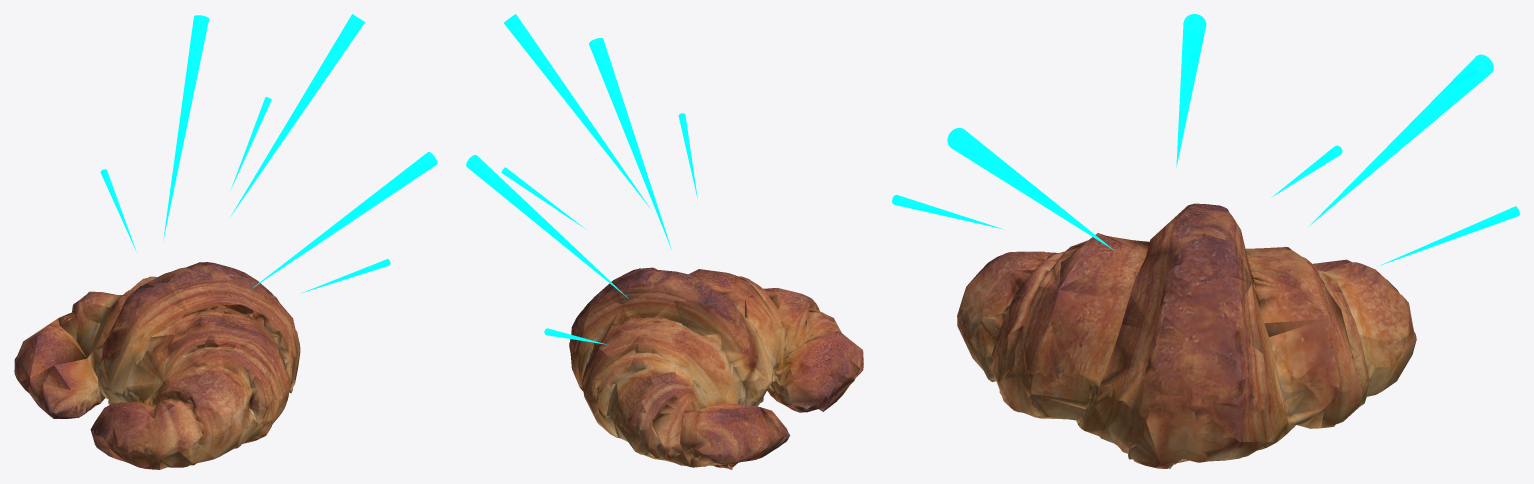
The model's file is Bread.gltf.
3 renders of one model, left to right at view 1: azimuth 30°, elevation 25°; view 2: azimuth 150°, elevation 25°; view 3: azimuth 270°, elevation 25°, orthographic. The views are drawn at different scales.
Visible parts, largest first — view 1: poly10kGEO, cones; view 2: poly10kGEO, cones; view 3: poly10kGEO, cones.
Part boxes in pixels (left/top/right/bottom): poly10kGEO: left=14, top=262, right=300, bottom=469; cones: left=100, top=14, right=437, bottom=293; poly10kGEO: left=569, top=267, right=863, bottom=469; cones: left=466, top=14, right=697, bottom=344; poly10kGEO: left=957, top=203, right=1416, bottom=468; cones: left=892, top=14, right=1519, bottom=265.
Size of the model in its own units: 1.5 by 1.68 by 1.82.
Materials: 2 (1 with a texture image).
